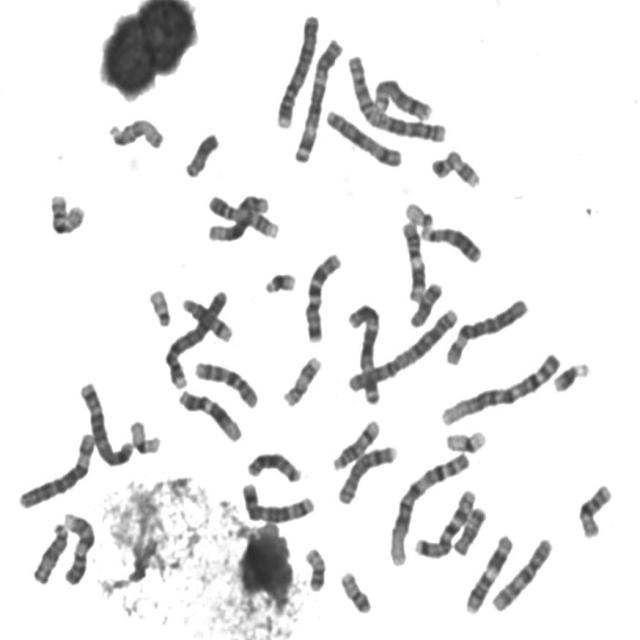A1: (386, 448, 474, 568), (436, 347, 564, 429)
A2: (344, 304, 460, 396), (344, 49, 448, 145)
A3: (290, 34, 344, 165), (344, 300, 384, 406)
B4: (162, 284, 230, 390), (273, 9, 321, 130)
B5: (75, 378, 135, 468), (238, 478, 316, 525)
C10: (488, 534, 556, 614), (191, 356, 261, 411)
C11: (462, 531, 516, 616), (398, 218, 427, 303)
C12: (174, 386, 243, 444), (208, 194, 269, 243)
C6: (14, 427, 97, 512), (442, 294, 531, 368)
C7: (411, 484, 478, 560), (301, 248, 344, 346)
C8: (334, 441, 400, 506), (370, 74, 433, 123)
C9: (205, 194, 281, 240), (58, 508, 96, 586)
D13: (418, 221, 484, 265), (244, 448, 304, 484)
D14: (329, 416, 382, 474), (178, 294, 235, 344)
D15: (29, 520, 70, 586), (104, 114, 166, 152)
E16: (576, 480, 614, 540), (46, 189, 88, 237)
E17: (279, 352, 324, 409), (428, 144, 483, 190)
E18: (449, 502, 488, 558), (406, 278, 445, 330)
F19: (126, 416, 163, 456), (442, 426, 488, 454)
F20: (337, 568, 373, 615), (301, 544, 328, 594)
G21: (550, 358, 592, 394), (261, 269, 298, 296)
G22: (145, 284, 173, 329), (402, 198, 434, 229)
X: (322, 105, 404, 168)
Y: (181, 128, 221, 180)
